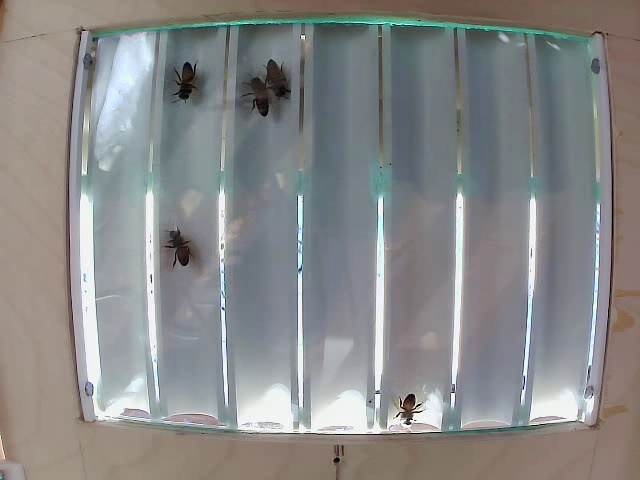bee: (265, 49, 294, 107), (173, 55, 203, 109), (246, 69, 275, 120), (165, 232, 189, 267), (393, 394, 416, 426)
